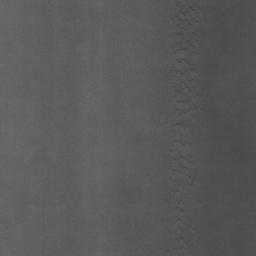Silk spot: (171, 2, 195, 25), (176, 24, 194, 47), (167, 64, 189, 80), (165, 189, 181, 208), (176, 58, 195, 71), (165, 154, 192, 163), (174, 180, 192, 189), (176, 107, 192, 116), (176, 120, 191, 128), (174, 140, 192, 146)
